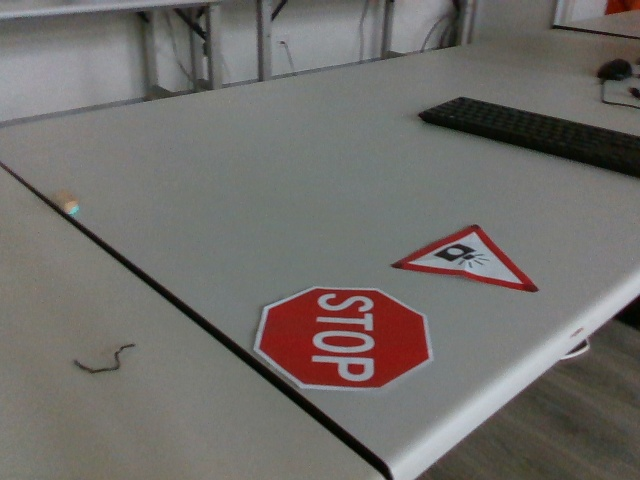camera: (392, 222, 544, 296)
stop: (253, 284, 436, 393)
